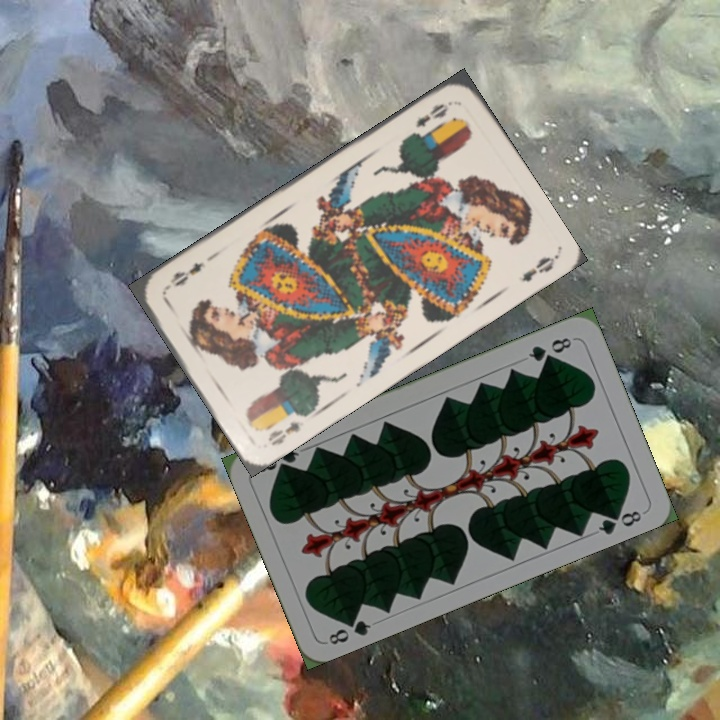EO: (263, 416, 307, 449), (411, 99, 452, 130)
G8: (324, 611, 374, 648), (524, 333, 577, 364)
